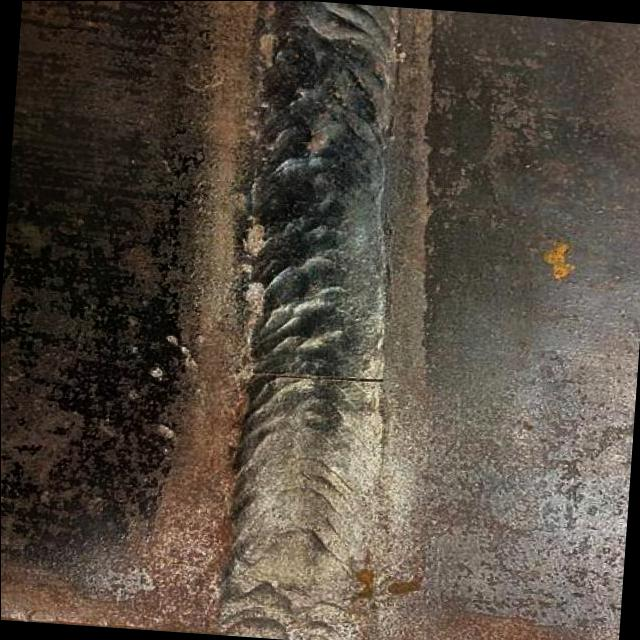defect: (252, 366, 397, 384)
